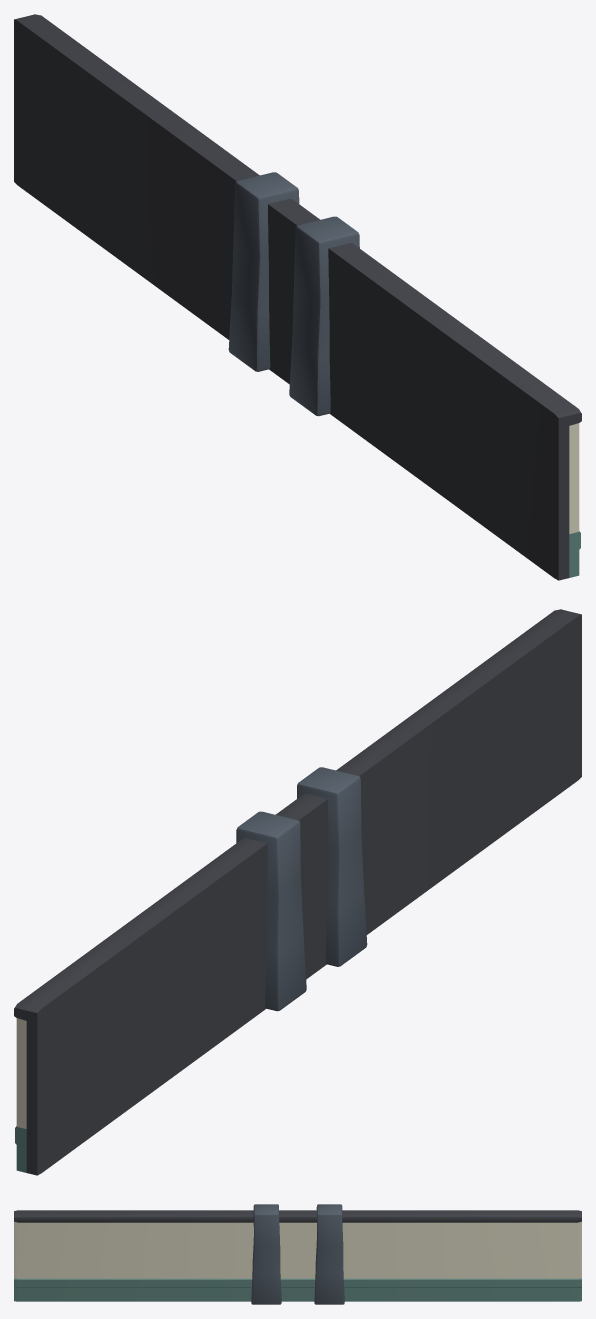
The model's file is MDL_Env_wallshort.fbx.
3 renders of one model, top to bottom at view 1: azimuth 30°, elevation 25°; view 2: azimuth 150°, elevation 25°; view 3: azimuth 270°, elevation 25°, orthographic. The views are drawn at different scales.
Parts seen in each view (by area): view 1: mesh_wall_short; view 2: mesh_wall_short; view 3: mesh_wall_short.
Part boxes in pixels (bbox=[...]): mesh_wall_short: bbox=[14, 14, 581, 580]; mesh_wall_short: bbox=[14, 609, 581, 1175]; mesh_wall_short: bbox=[14, 1204, 581, 1304].
Bounding box in the file's own units: 76.79 × 252 × 1440.
Materials: 1 (1 with a texture image).
